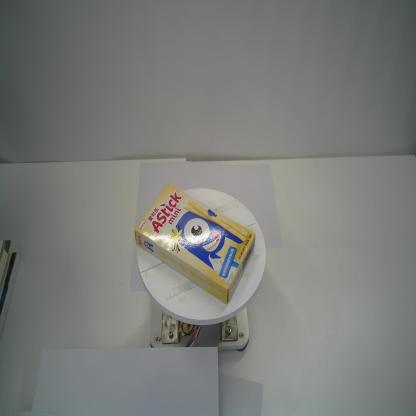Dessert: (133, 182, 258, 306)
